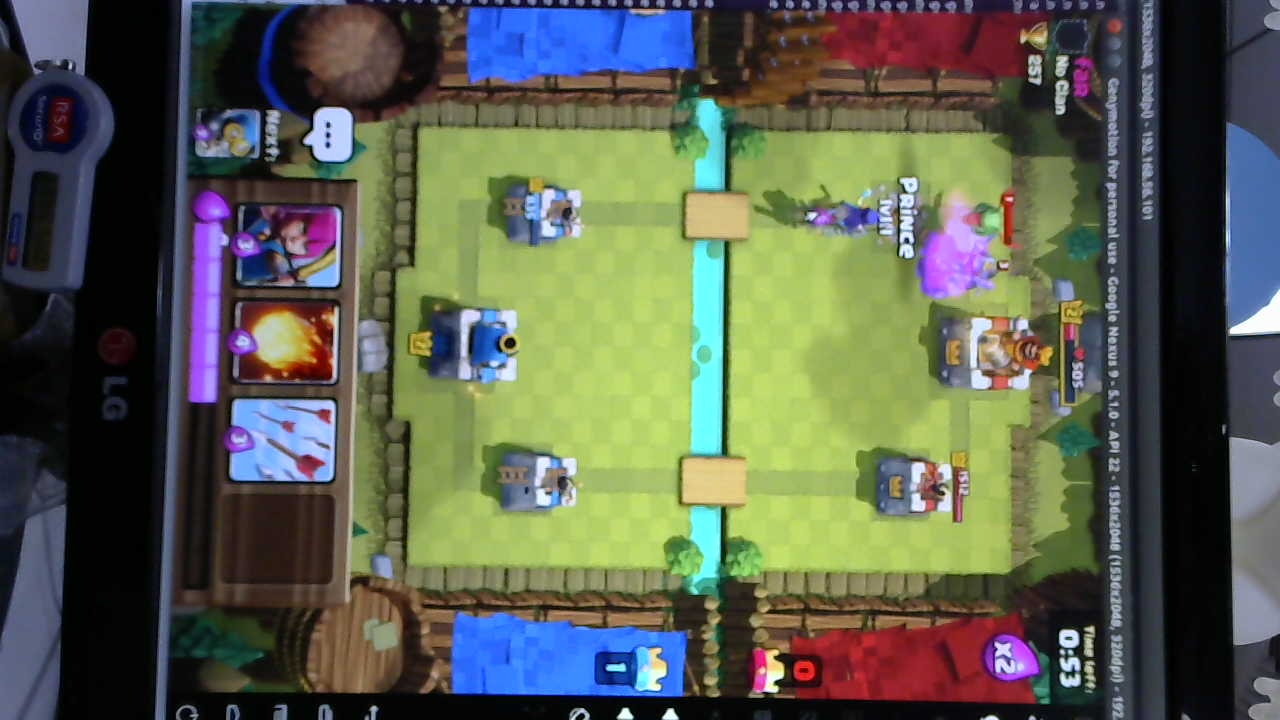arena: (501, 178, 584, 245), (510, 446, 581, 511)
dragon: (963, 195, 1008, 242)
earena: (880, 457, 954, 519)
eking: (936, 308, 1047, 393)
king: (429, 300, 524, 389)
knight: (963, 245, 1004, 294)
witch: (819, 196, 881, 234)
